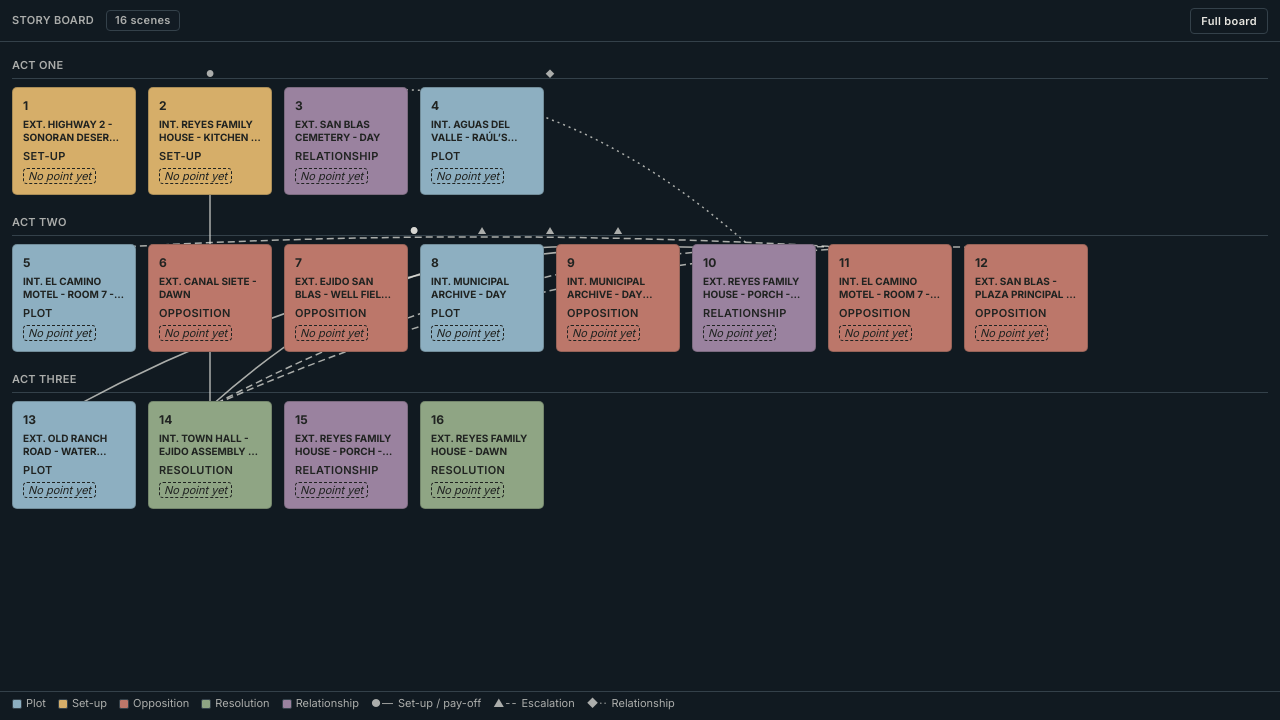
Test case: direct in-card scene point editing (no popover) › clicking away saves the draft (save on blur)
Click the 2nd button "No point yet" at (196, 176), box [159, 168, 232, 184]
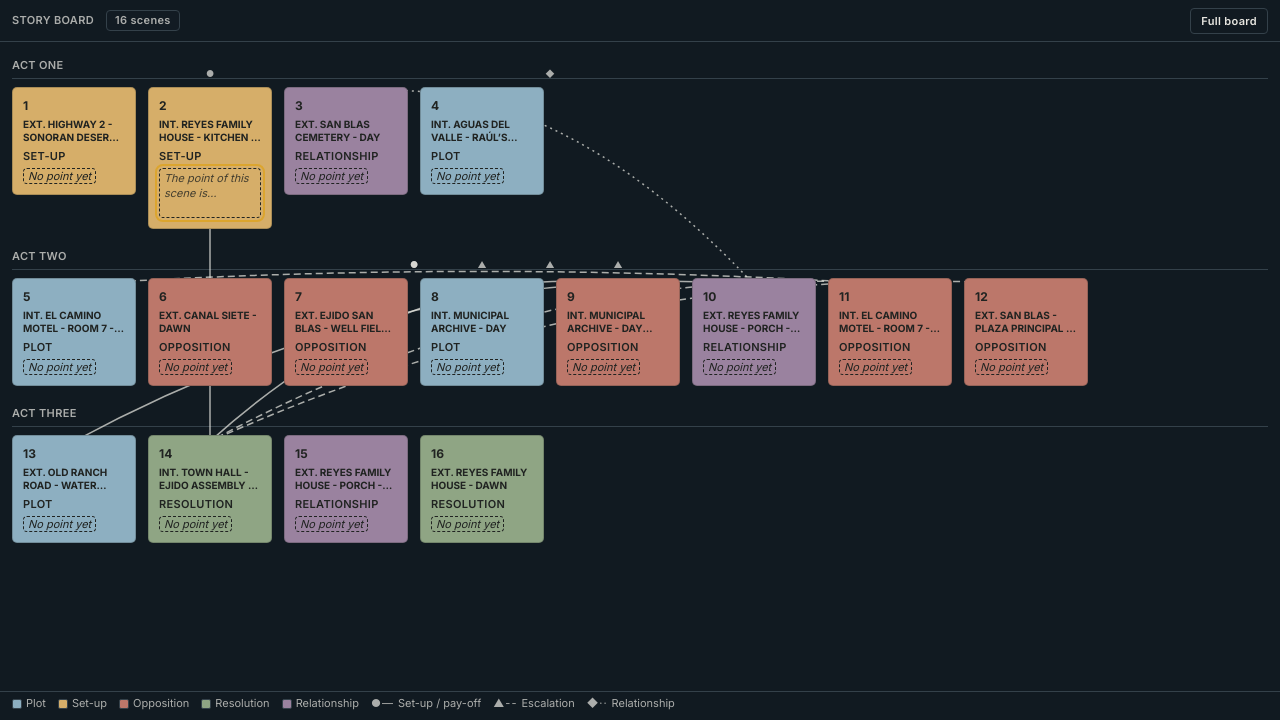
Type keys "Saved by blur."
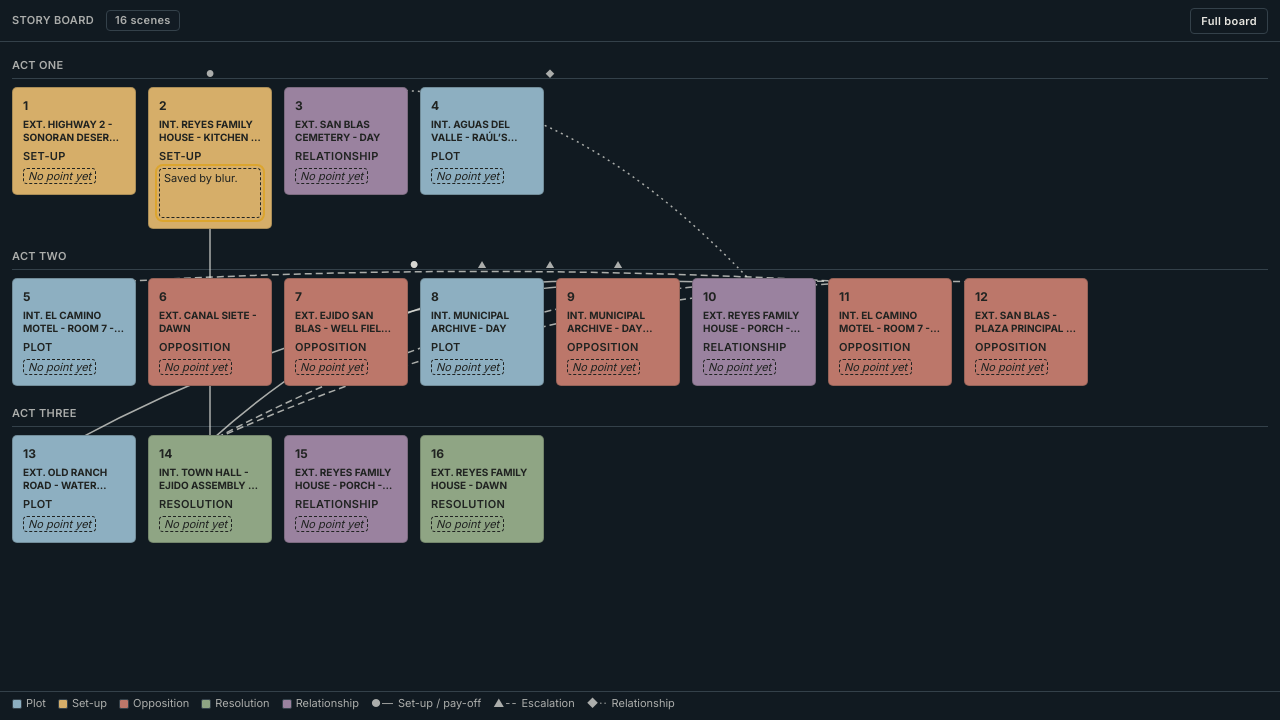
Click the heading "Story Board" at (53, 20), box [12, 12, 94, 28]
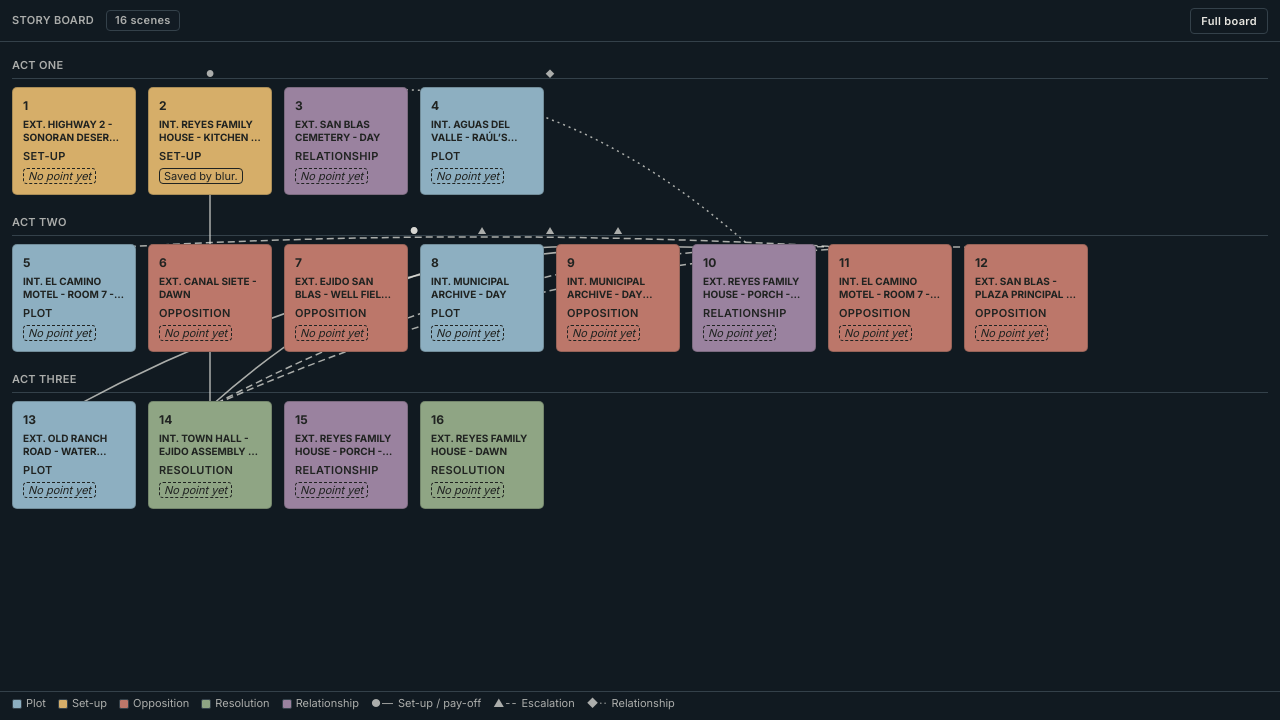
Expected: the field with placeholder "The point of this scene is…" is not shown
Expected: the button "Saved by blur." is shown, [159, 168, 243, 184]
